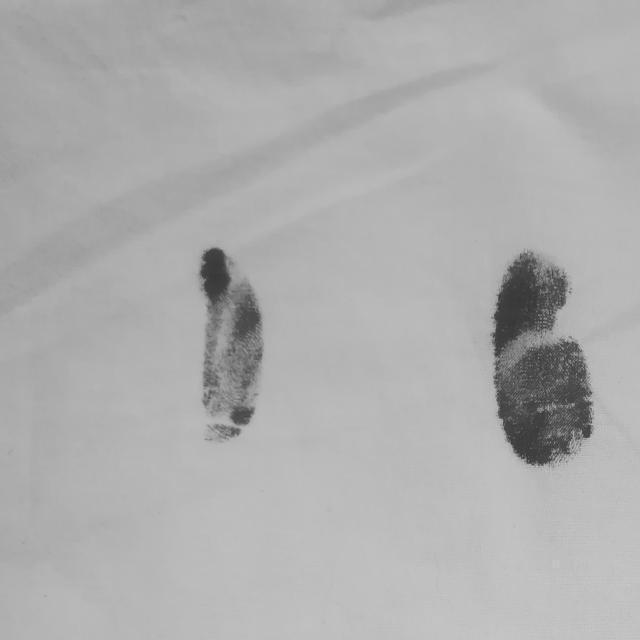Thread_other: (4, 7, 640, 640), (418, 201, 626, 500), (124, 209, 332, 478)
